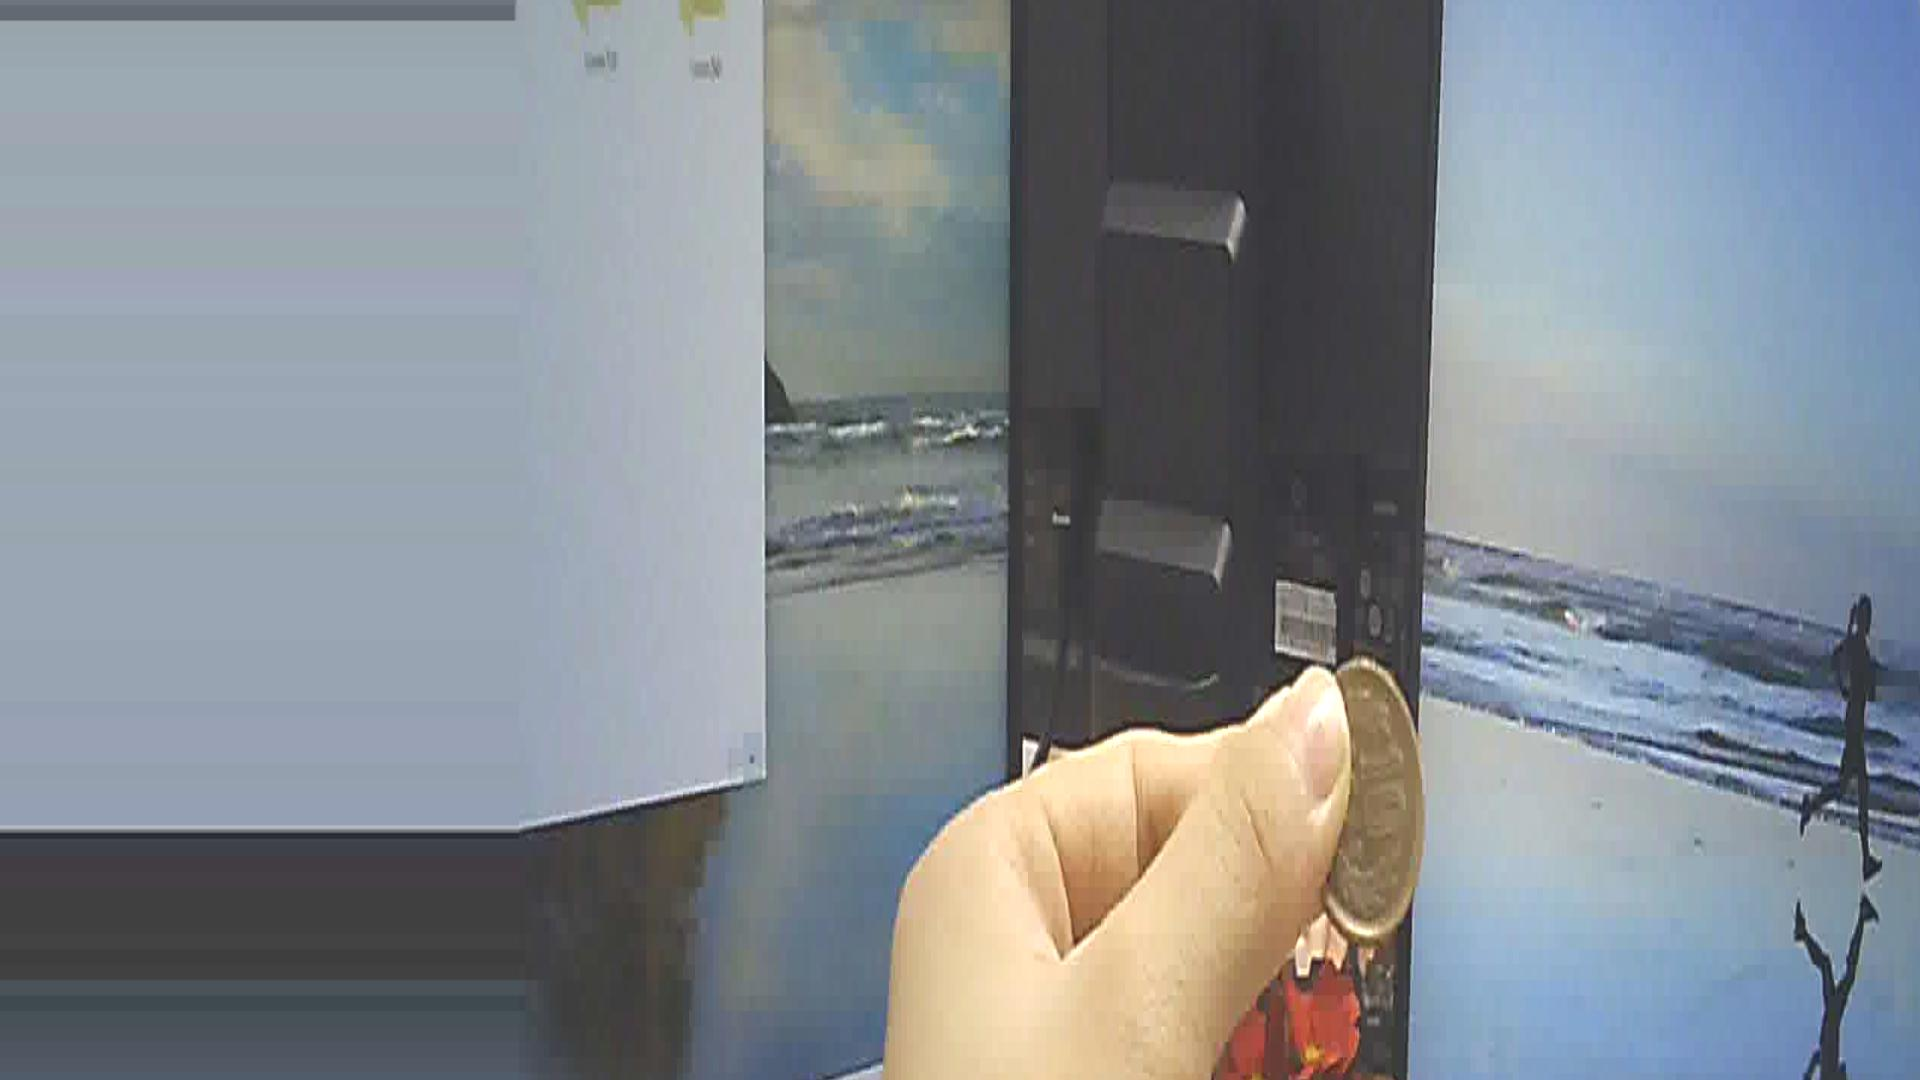10 Yen: (1299, 658, 1453, 948)
